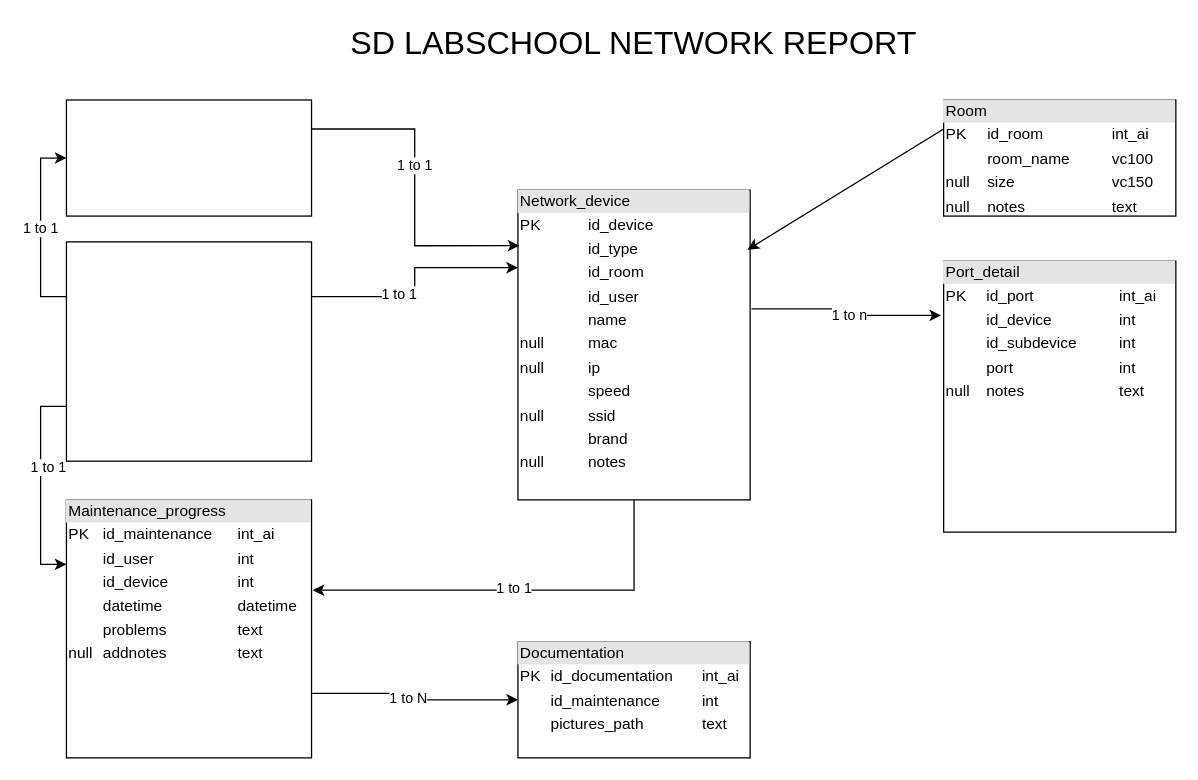
Some shapes in this 1198 by 780 pixel diagram are drawn without their labels. Each missing label, with the centre of its shape:
"Device_type PK id_type int_ai id_user int name vc50 null notes text" goes at [188,157].
"User PK id_user int_ai name vc100 division vc50 uq username vc50 password vc50" goes at [188,351].
